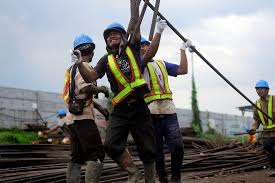hard hat: (72, 34, 95, 49), (102, 23, 127, 35), (255, 79, 270, 88), (140, 34, 151, 44)
high-vis: (107, 46, 146, 104), (63, 63, 94, 104), (145, 59, 172, 103), (256, 94, 275, 127)
